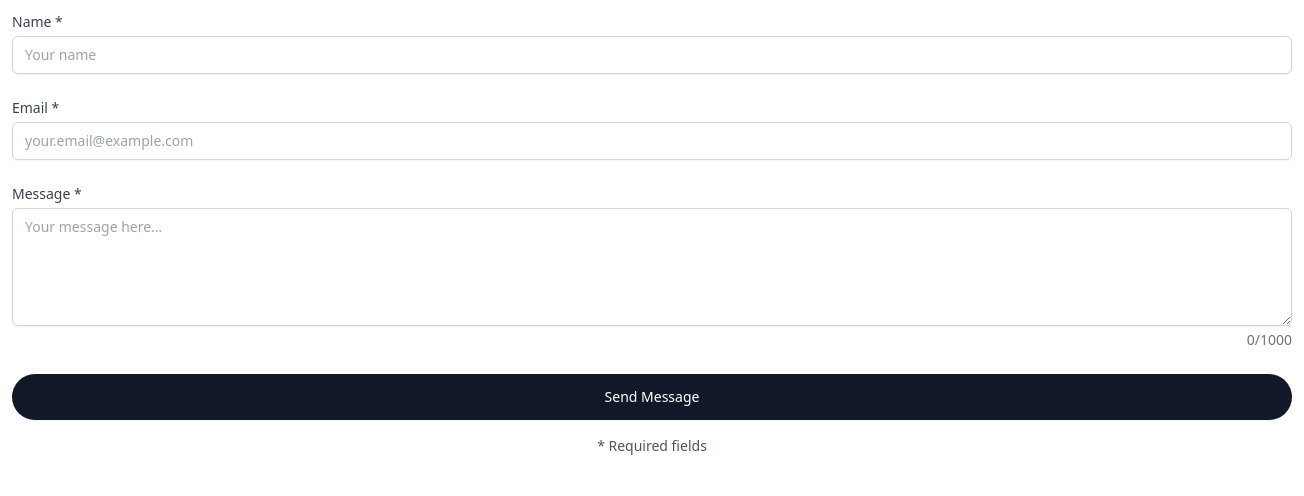
it: ContactForm › validates email format
Note: Type invalid email and blur
Type "not-an-email" into the field with test id "email-input" at (652, 141), box [12,122,1292,160]
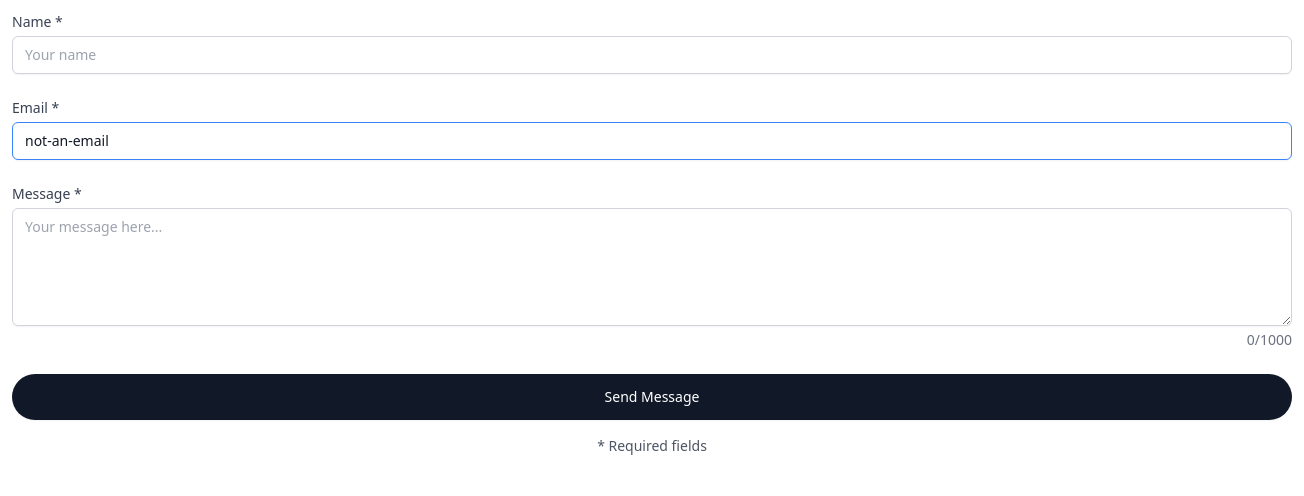
Press Tab
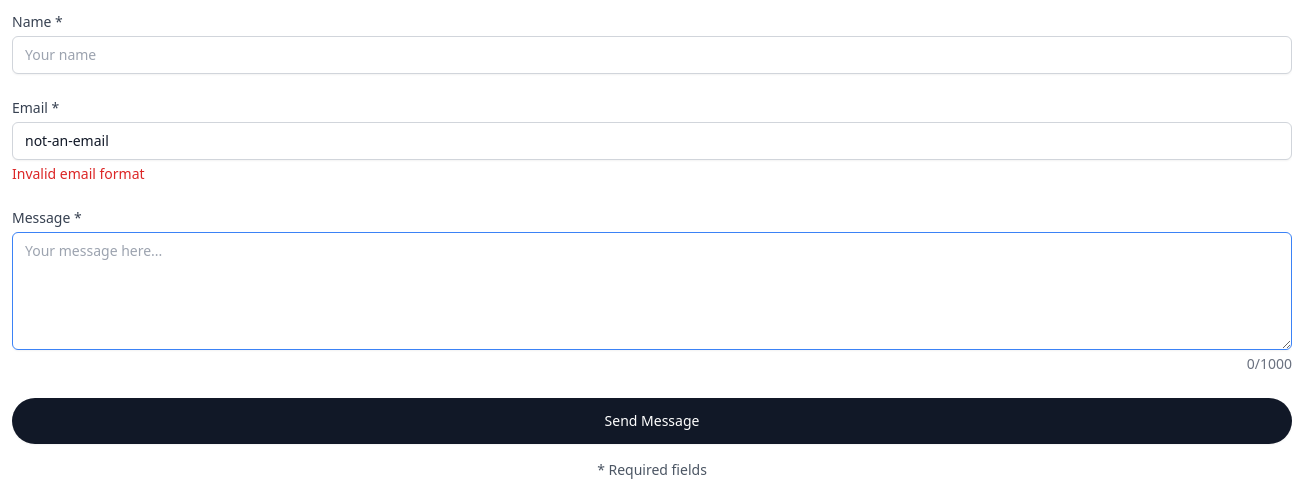
Expected: the text "Invalid email format" is shown, [12,164,145,183]
